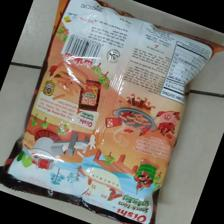Oishi_Cay: (1, 1, 221, 223)
